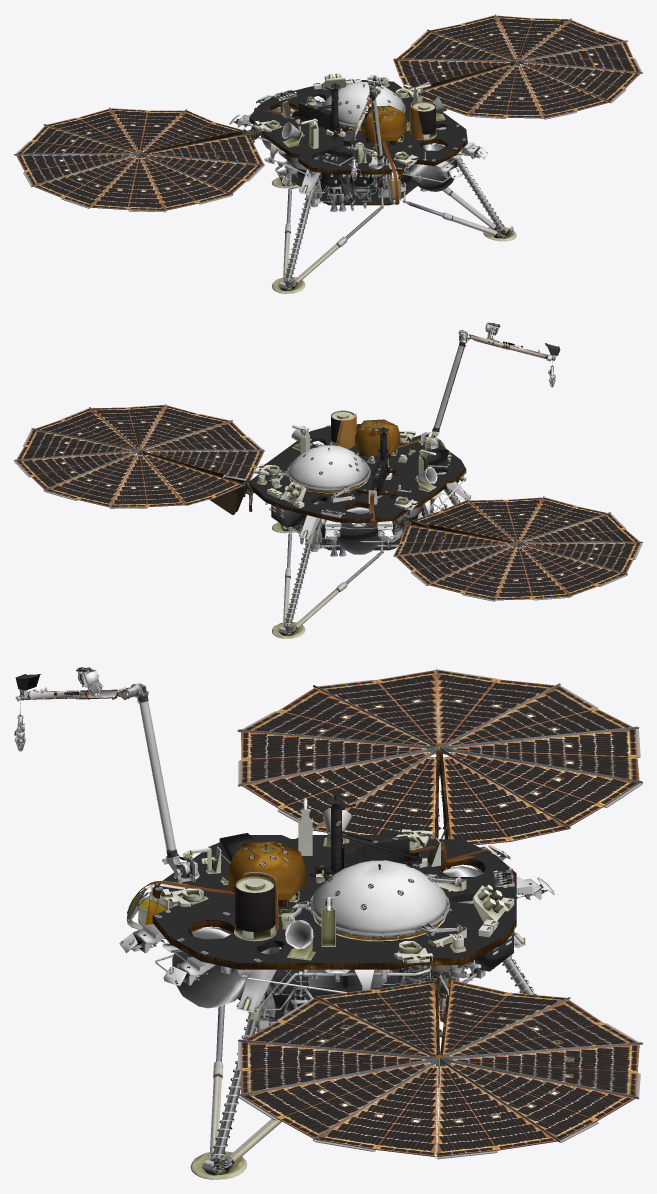
Rendered from insight.glb.
3 renders of one model, top to bottom at view 1: azimuth 30°, elevation 25°; view 2: azimuth 150°, elevation 25°; view 3: azimuth 270°, elevation 25°, orthographic. The views are drawn at different scales.
Parts seen in each view (by area): view 1: Lander Deployed Simplified coarse.1043, leg_l, leg_r, Cylinder.000, SEIS, HP3_v3d_baked, Cube.056, Cube.095, Cube.051, Cube.079, Cube.055, Cube.001 (+38 smaller); view 2: Lander Deployed Simplified coarse.1043, Cylinder.000, leg_b, SEIS, Cube.047, Cube.083, Cube.064, Cube.078, Cube.081, Cube.085, Cube.061, Cube.049 (+39 smaller); view 3: Lander Deployed Simplified coarse.1043, Cylinder.000, leg_r, Cube.089, Cube.060, Cube.091, Cube.059, Cube.087, HP3_v3d_baked, Cube.057, SEIS, Cube.086 (+38 smaller).
Boxes of the visible parts, bbox=[...] form: Lander Deployed Simplified coarse.1043: bbox=[229, 73, 487, 211]; leg_l: bbox=[271, 178, 383, 293]; leg_r: bbox=[404, 146, 516, 241]; Cylinder.000: bbox=[313, 81, 405, 127]; SEIS: bbox=[361, 105, 406, 144]; HP3_v3d_baked: bbox=[287, 83, 351, 139]; Cube.056: bbox=[143, 157, 232, 204]; Cube.095: bbox=[468, 65, 517, 118]; Cube.051: bbox=[128, 158, 165, 212]; Cube.079: bbox=[393, 59, 507, 77]; Cube.055: bbox=[147, 155, 263, 181]; Cube.001: bbox=[33, 156, 133, 197]; Lander Deployed Simplified coarse.1043: bbox=[245, 423, 471, 556]; Cylinder.000: bbox=[277, 445, 370, 492]; leg_b: bbox=[272, 522, 383, 638]; SEIS: bbox=[355, 419, 400, 458]; Cube.047: bbox=[523, 545, 627, 586]; Cube.083: bbox=[44, 454, 135, 500]; Cube.064: bbox=[519, 547, 570, 600]; Cube.078: bbox=[145, 454, 243, 497]; Cube.081: bbox=[110, 455, 147, 508]; Cube.085: bbox=[14, 452, 131, 477]; Cube.061: bbox=[429, 546, 513, 593]; Cube.049: bbox=[525, 542, 642, 559]; Lander Deployed Simplified coarse.1043: bbox=[119, 829, 554, 1032]; Cylinder.000: bbox=[292, 860, 451, 938]; leg_r: bbox=[190, 984, 281, 1179]; Cube.089: bbox=[314, 1065, 435, 1151]; Cube.060: bbox=[450, 752, 642, 807]; Cube.091: bbox=[238, 1062, 428, 1120]; Cube.059: bbox=[447, 756, 569, 841]; Cube.087: bbox=[437, 1066, 497, 1159]; HP3_v3d_baked: bbox=[310, 795, 422, 885]; Cube.057: bbox=[241, 752, 428, 808]; SEIS: bbox=[228, 841, 305, 907]; Cube.086: bbox=[444, 1065, 557, 1150].
Size of the model in its own units: 6.14 by 2.17 by 3.33.
11 materials, 11 textured.
